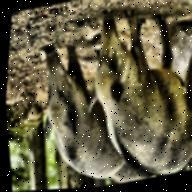boar: (74, 0, 192, 188)
